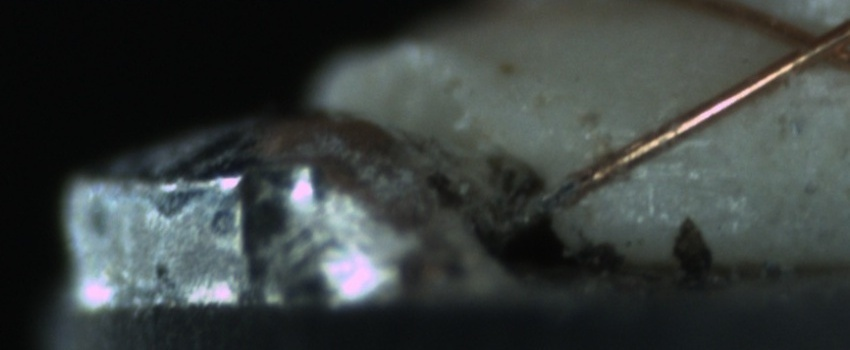CL: (770, 13, 848, 74)
DL: (609, 150, 739, 207)
